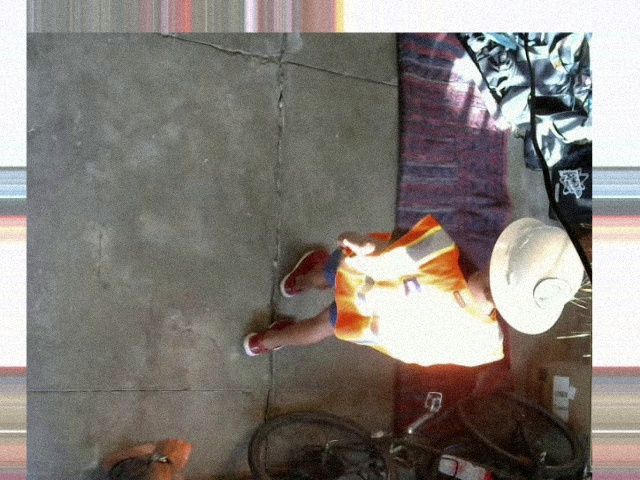two: (532, 276, 572, 310)
